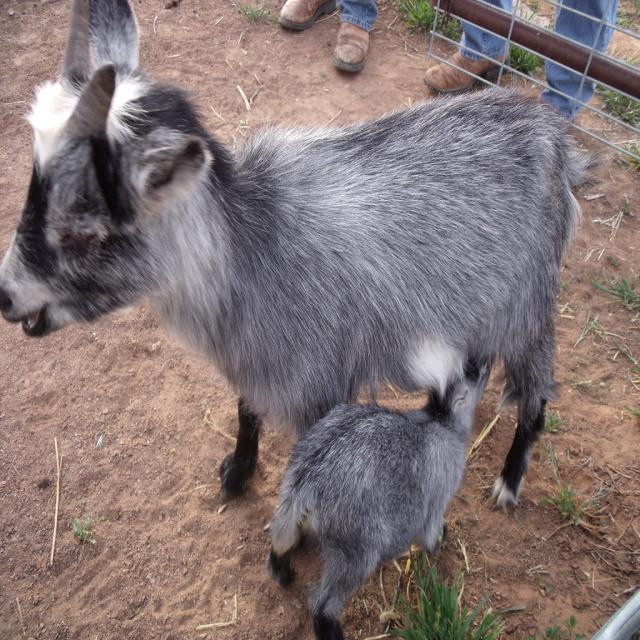Goat: (0, 0, 606, 518), (265, 374, 481, 639)
